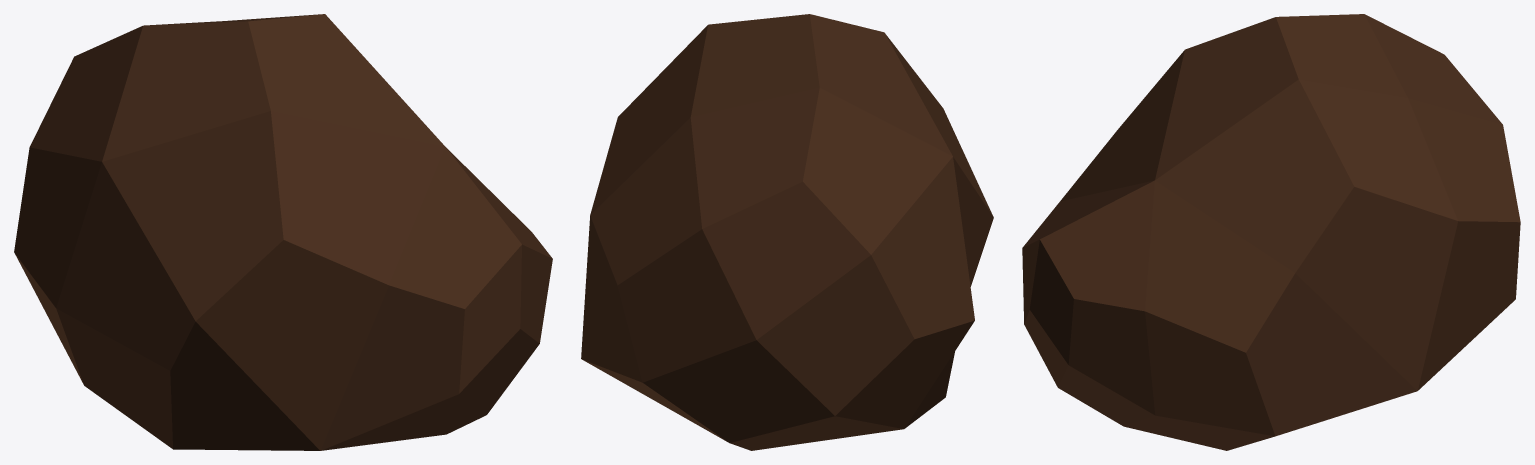
The model's file is Boulder1.glb.
The picture shows the model from 3 angles, left to right: view 1: azimuth 30°, elevation 25°; view 2: azimuth 150°, elevation 25°; view 3: azimuth 270°, elevation 25°; orthographic projection. The views are drawn at different scales.
Parts seen in each view (by area): view 1: Boulder1; view 2: Boulder1; view 3: Boulder1.
Boxes of the visible parts, x1,y1,x2,y2 form: Boulder1: [14, 14, 552, 450]; Boulder1: [581, 14, 993, 450]; Boulder1: [1022, 14, 1520, 450].
Size of the model in its own units: 1.16 by 1.13 by 1.33.
